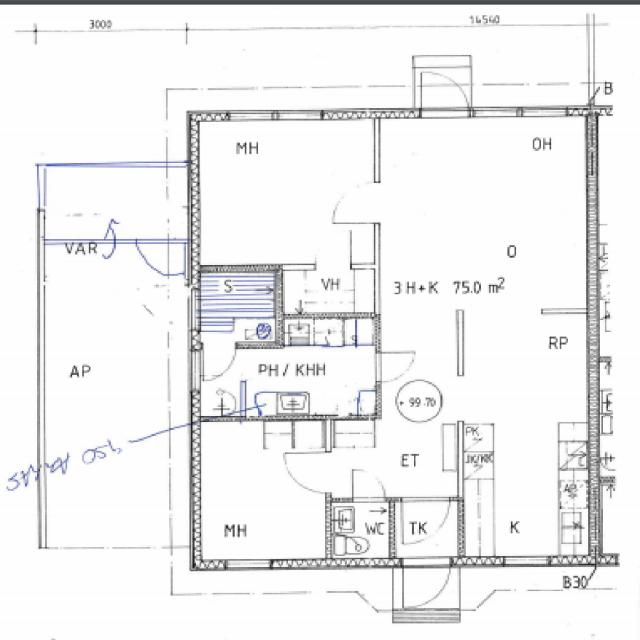door: (403, 558, 452, 613), (422, 66, 470, 119), (402, 498, 452, 548), (329, 181, 381, 224), (138, 239, 184, 285), (287, 453, 332, 490), (316, 233, 352, 270), (353, 467, 388, 502), (376, 351, 414, 382), (205, 341, 236, 377)
